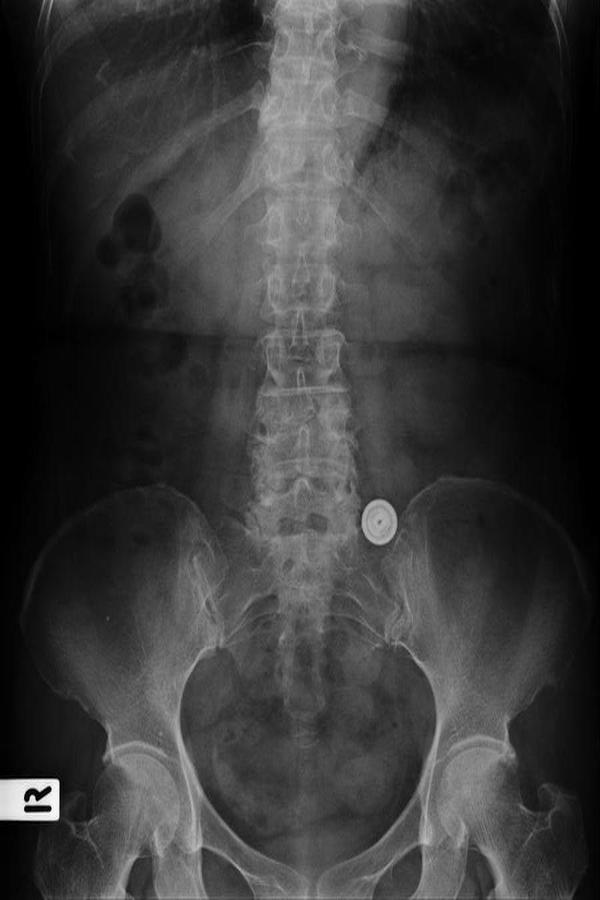lumbar scoliosis: (244, 4, 369, 574)
